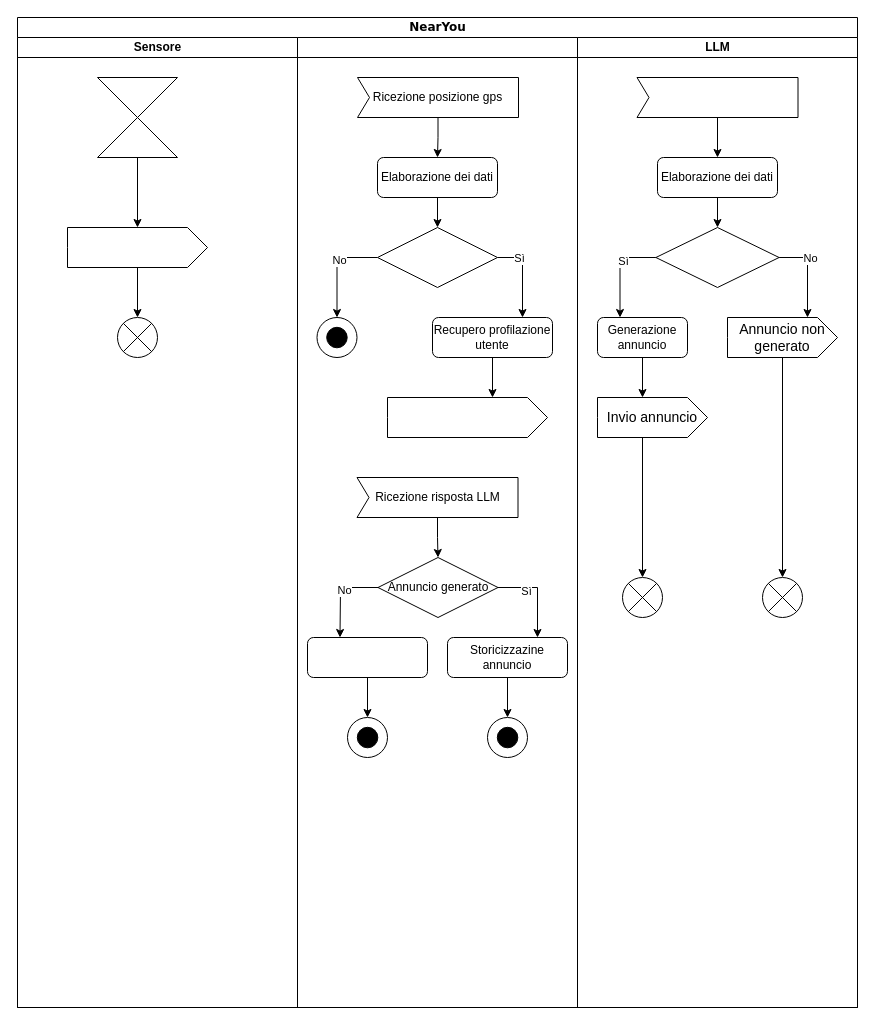
This 875x1025 diagram has some shape labels left out. Each missing label, with the box of its shape:
Invio posizione gps: (66, 226, 208, 268)
Invio richiesta generazione annuncio: (386, 396, 548, 438)
Ricezione richiesta generazione annuncio: (636, 76, 798, 118)
Sistema: (296, 36, 578, 1008)
Storicizzazione di mancata generazione annuncio: (306, 636, 428, 678)
Utente interessato: (655, 226, 779, 288)
Vicinanza poi: (376, 226, 498, 288)
